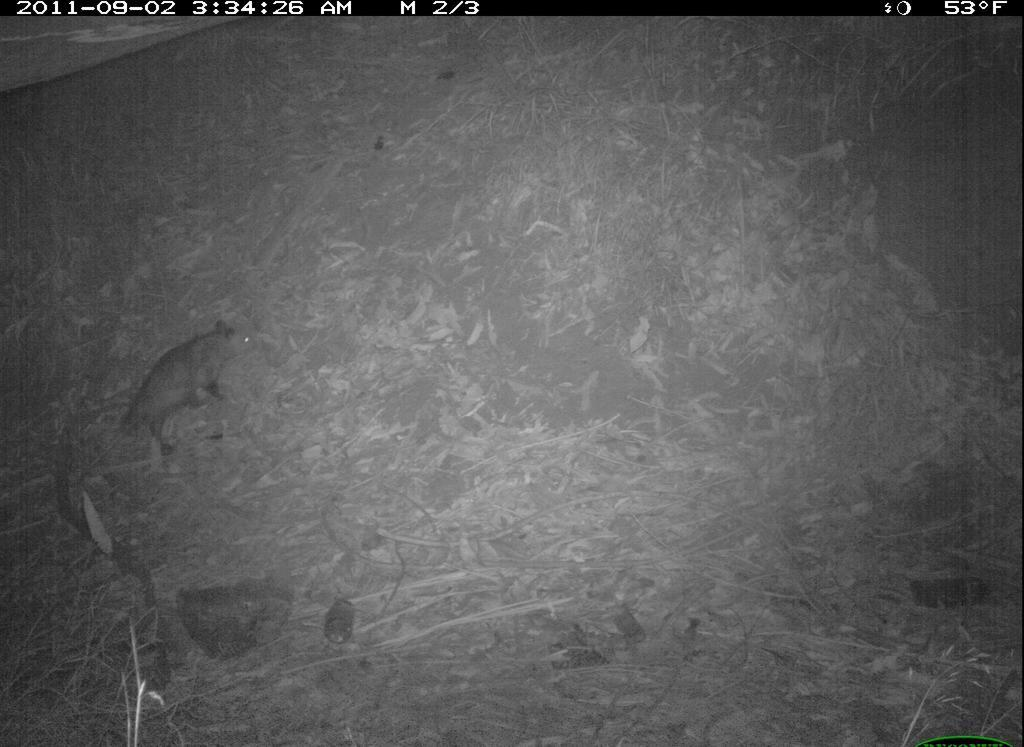opossum: (85, 318, 260, 482)
